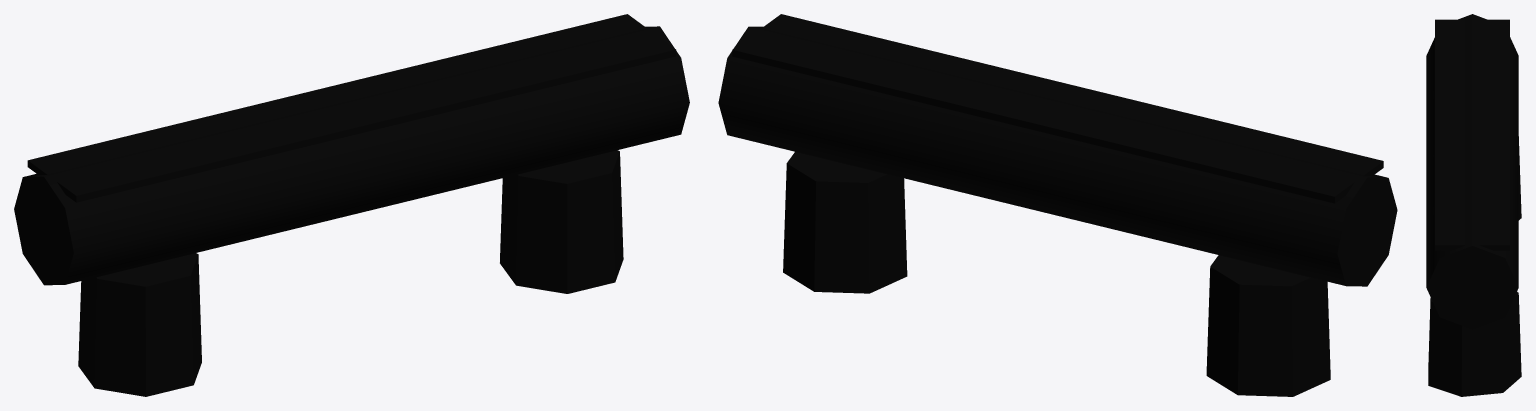
File: SM_log_bench.fbx
3 renders of one model, left to right at view 1: azimuth 30°, elevation 25°; view 2: azimuth 150°, elevation 25°; view 3: azimuth 270°, elevation 25°, orthographic. The views are drawn at different scales.
Visible parts, largest first — view 1: log_bench; view 2: log_bench; view 3: log_bench.
Part boxes in pixels (<box>): log_bench: <box>14,14,689,396</box>; log_bench: <box>718,14,1397,396</box>; log_bench: <box>1426,14,1521,396</box>.
Size of the model in its own units: 1.9 by 0.64 by 0.33.
